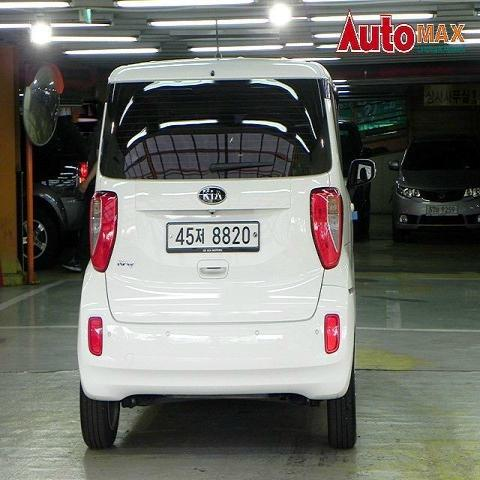LP: (162, 217, 264, 256)
